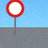sign: (6, 0, 24, 35)
